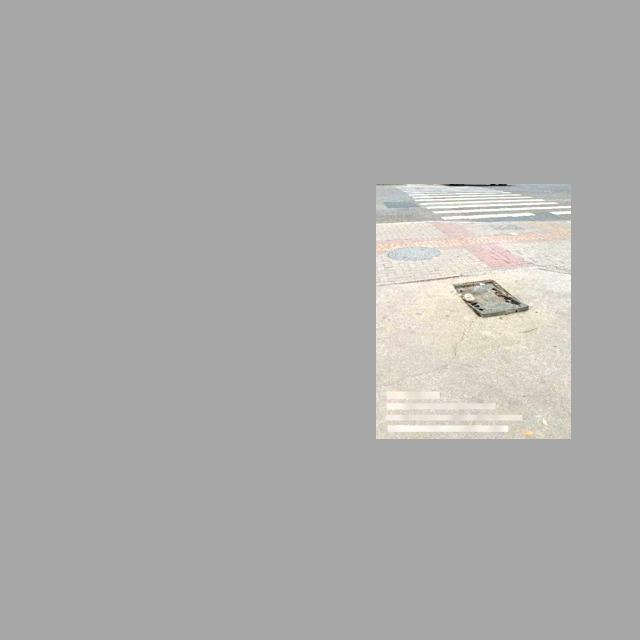broke: (452, 279, 529, 316)
good: (384, 245, 441, 260)
